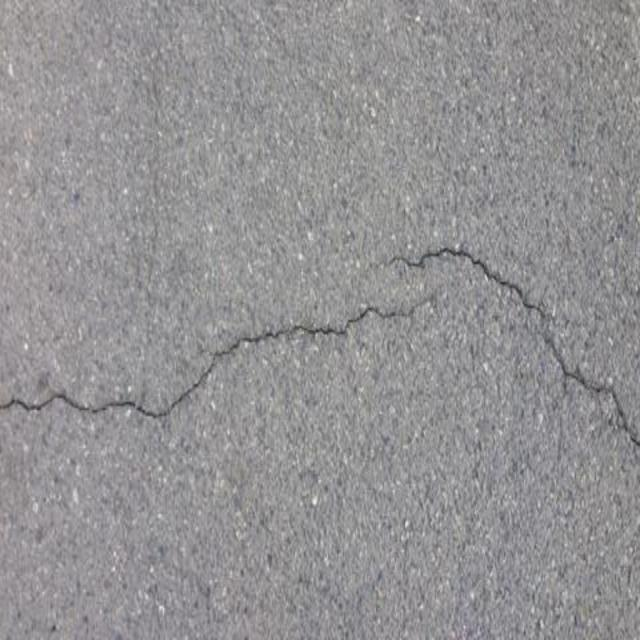cracks: (0, 227, 640, 481)
